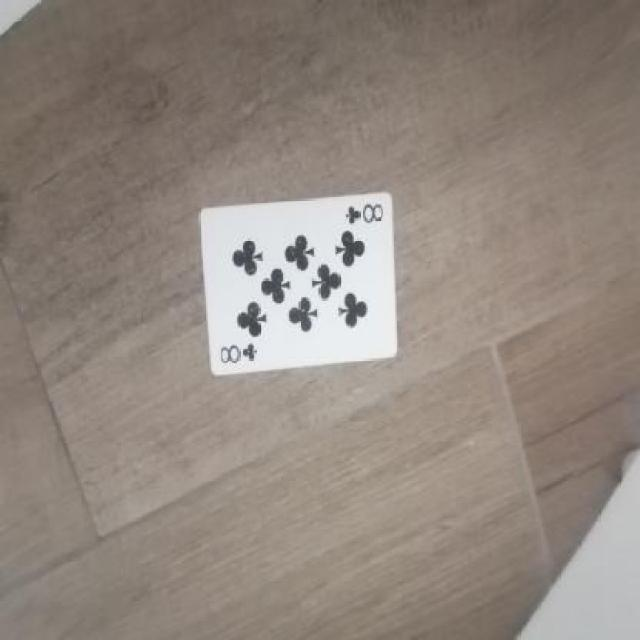8C: (217, 336, 260, 373), (343, 198, 388, 228)
